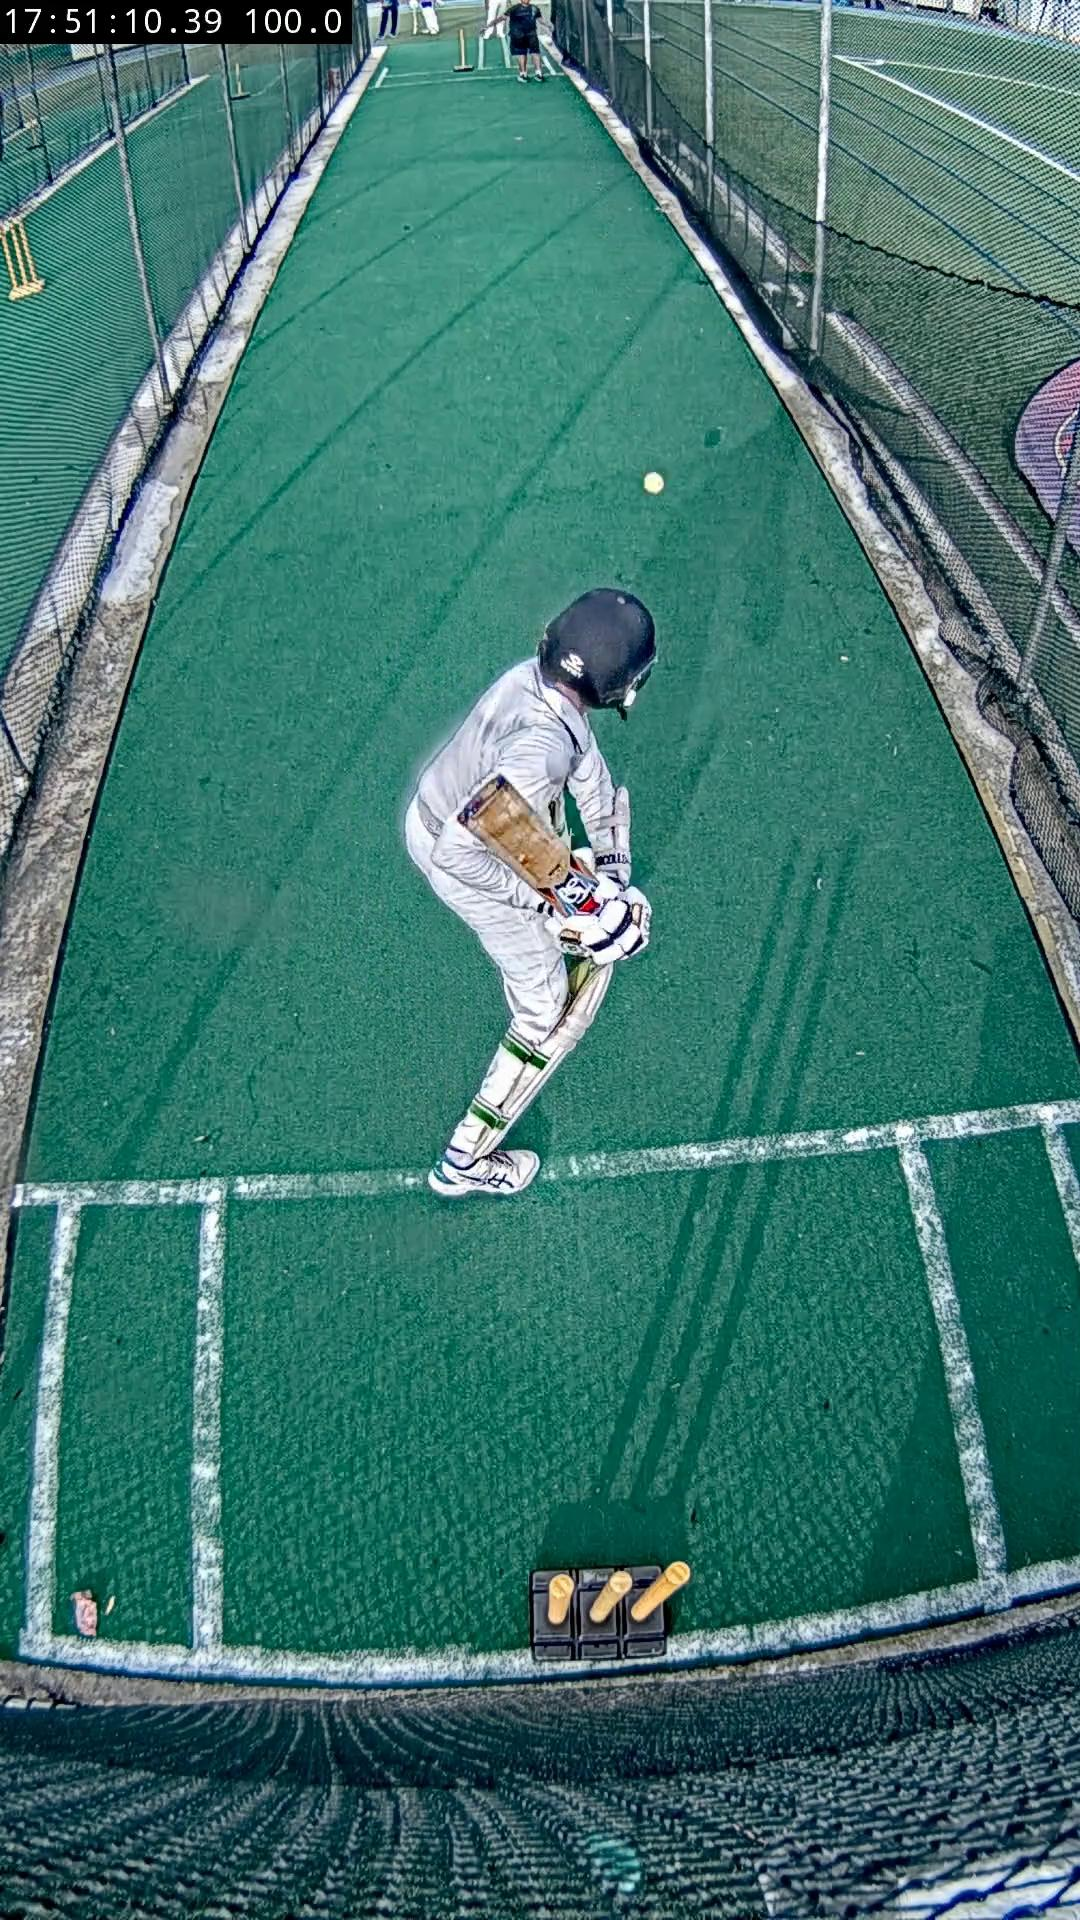ball: (645, 472, 663, 495)
bat: (458, 777, 604, 919)
gloves: (555, 889, 653, 964)
helmet: (541, 588, 657, 708)
pads: (495, 960, 612, 1130)
stumps: (529, 1564, 690, 1662)
